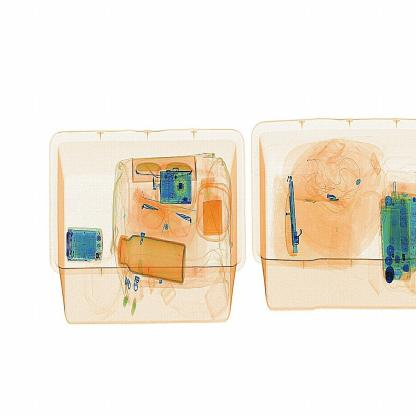pliers: (283, 174, 306, 258)
